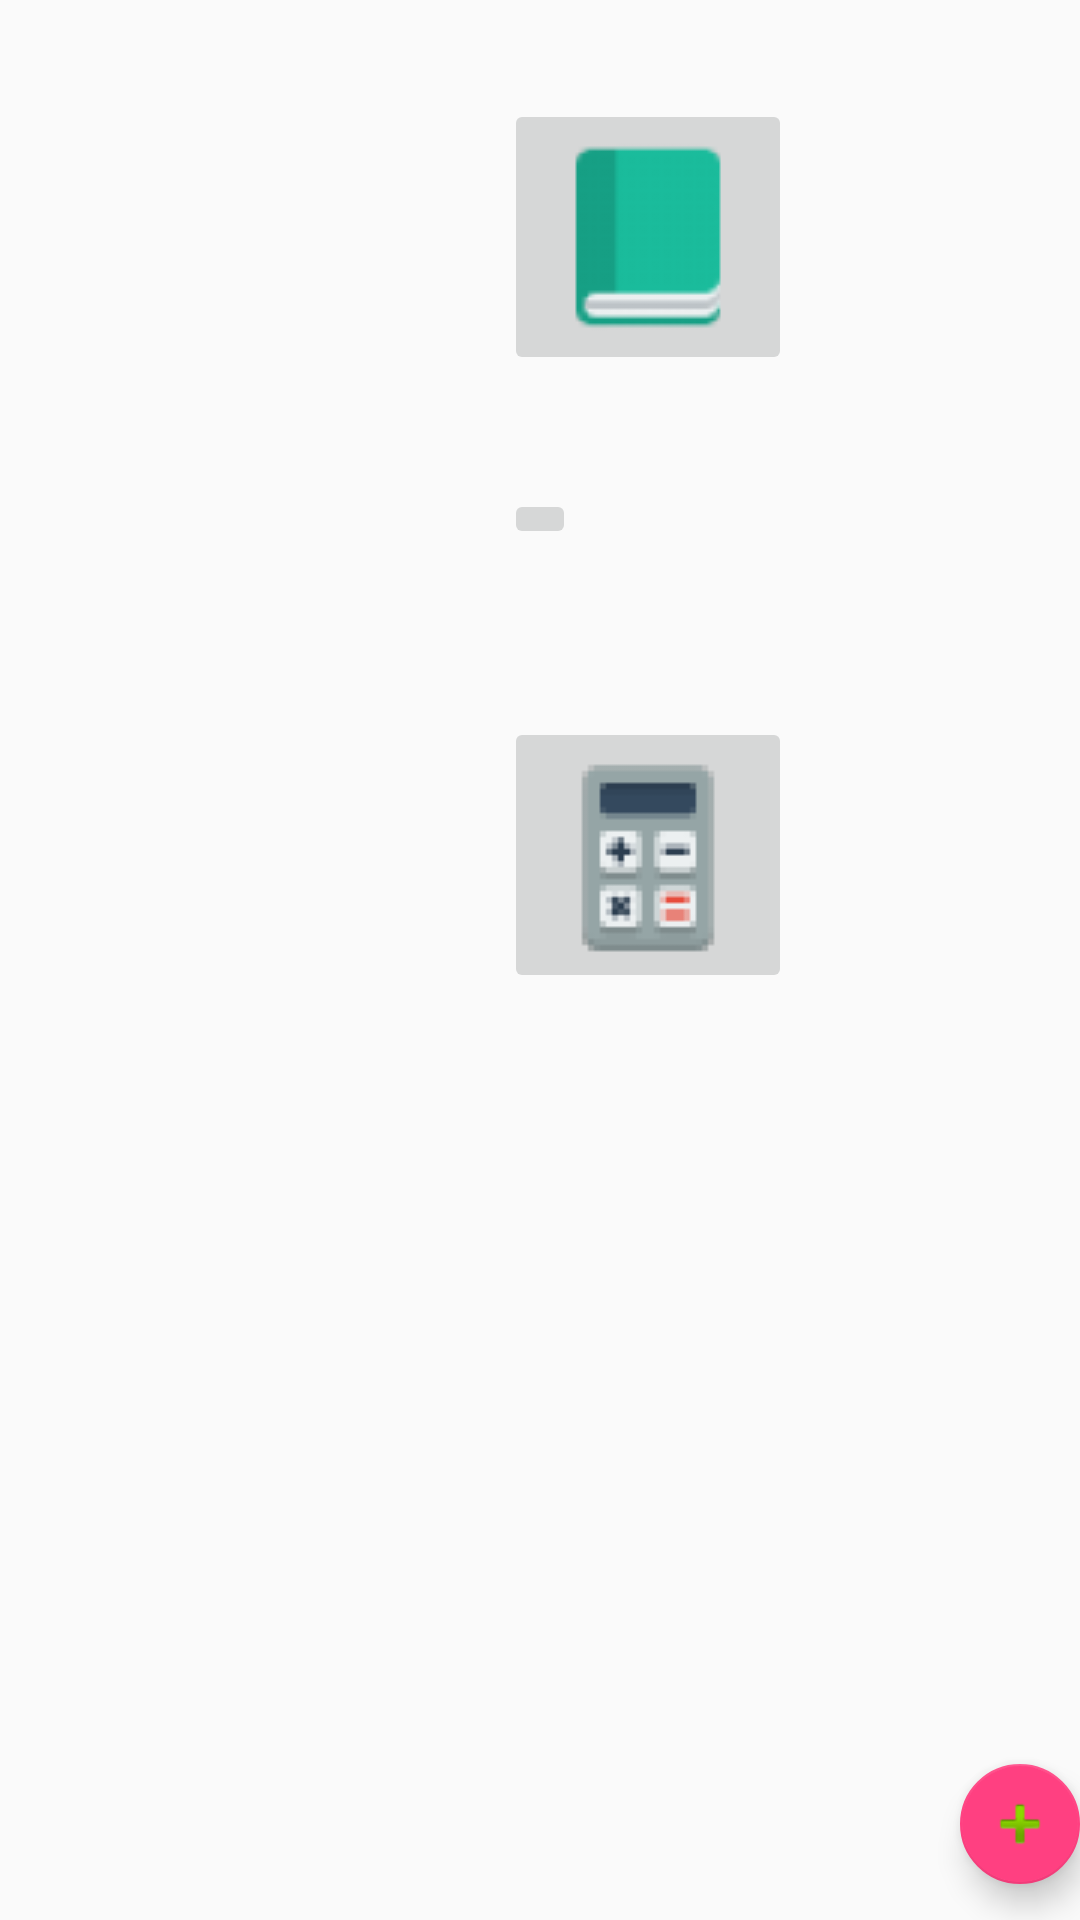

Named icons in this screenshot (1080px x 1920px) and their centers, point (x, y):
add: point (1020, 1824)
calculator: point (648, 855)
notes: point (648, 237)
